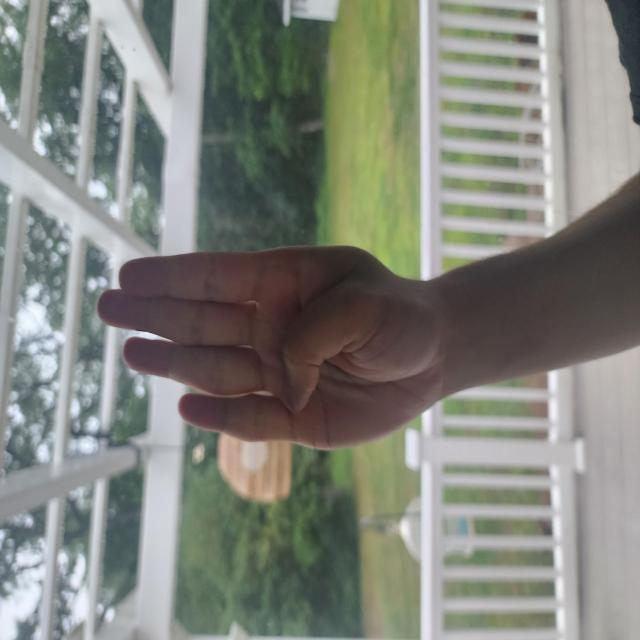B: (140, 127, 302, 587)
